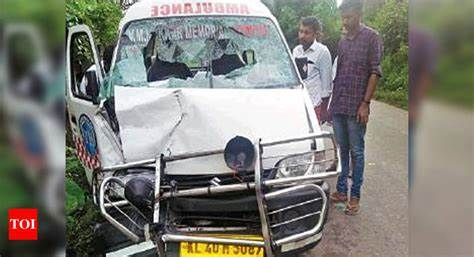ambulance: (76, 3, 360, 252)
